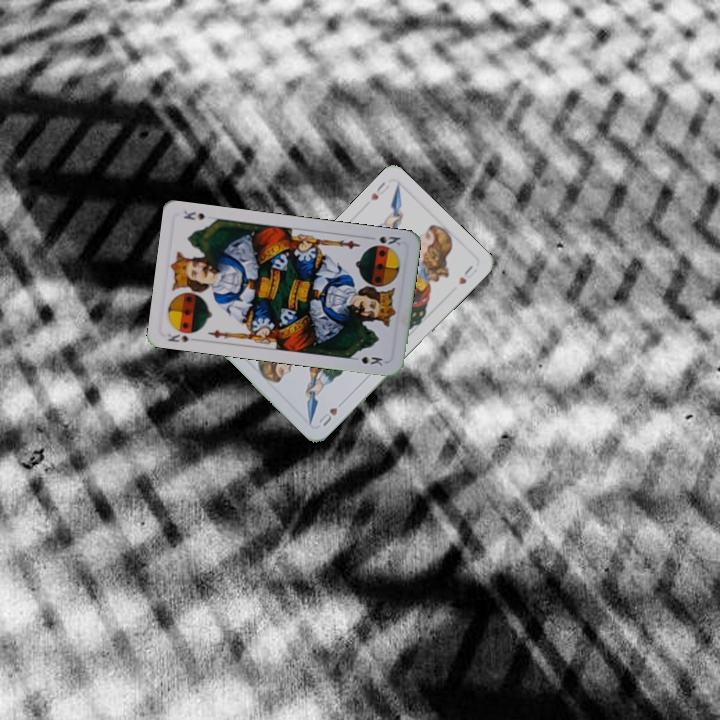HU: (314, 403, 340, 429), (366, 177, 392, 203)
SK: (164, 325, 202, 345), (375, 232, 404, 248)
